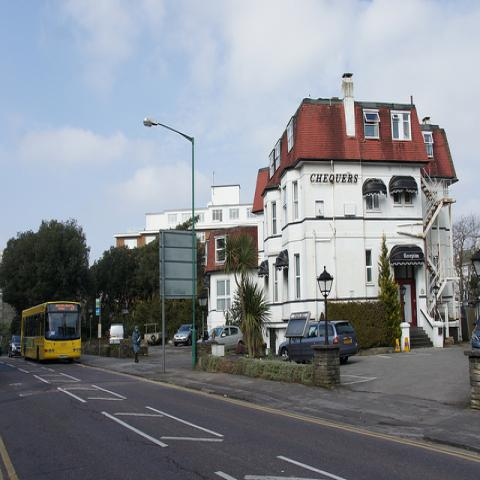bus: (20, 302, 81, 364)
car: (277, 320, 358, 364), (198, 327, 244, 351), (174, 324, 200, 346), (8, 335, 22, 357), (471, 314, 479, 350)
